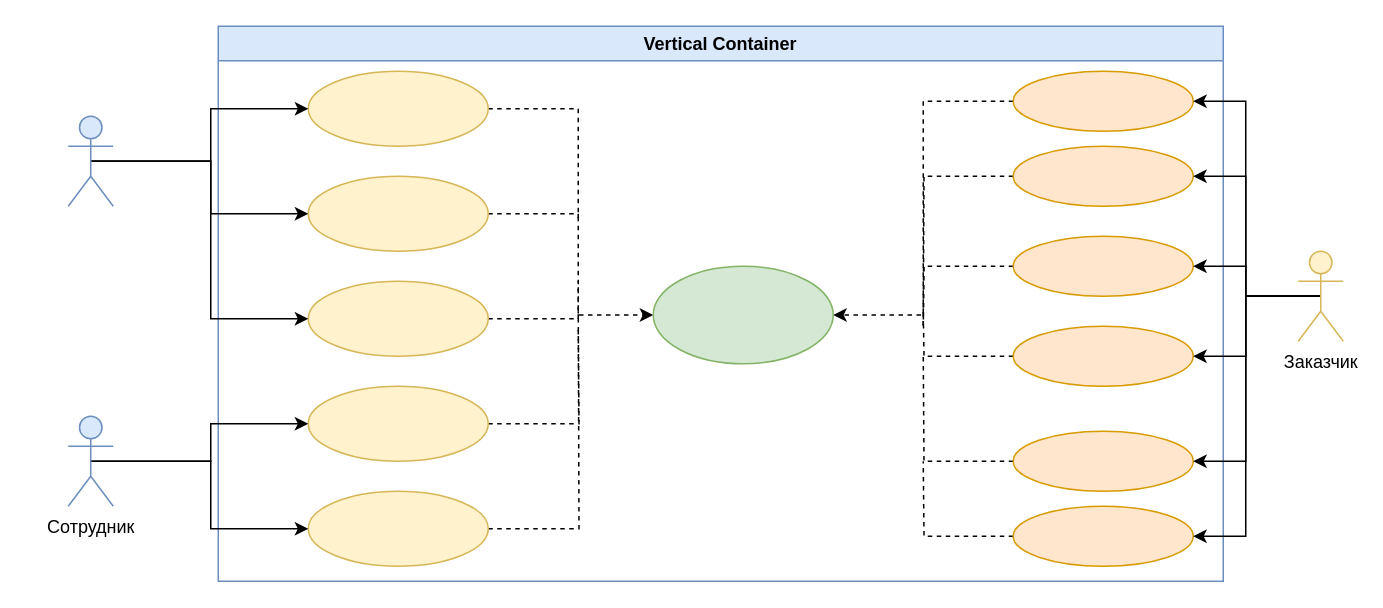
Image size: 1383x608. Some labels were removed from this diagram. Each missing label, with the box of its shape:
Авторизоваться: (652, 265, 833, 364)
Администратор: (67, 115, 113, 206)
